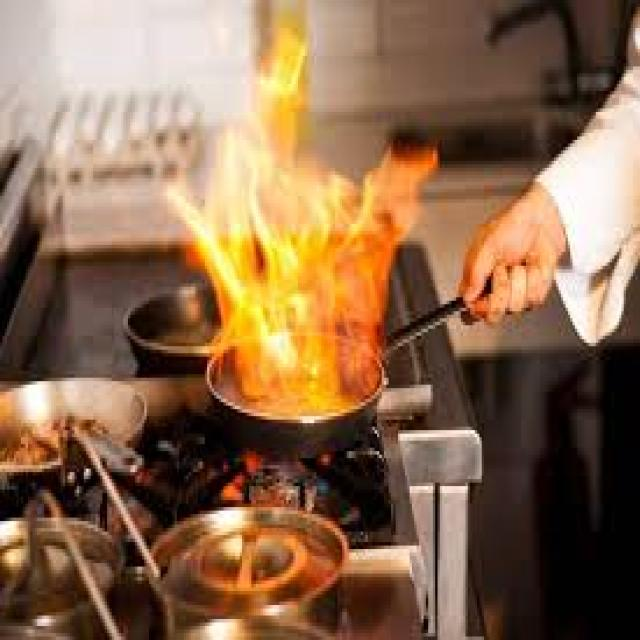fire: (167, 24, 425, 421)
